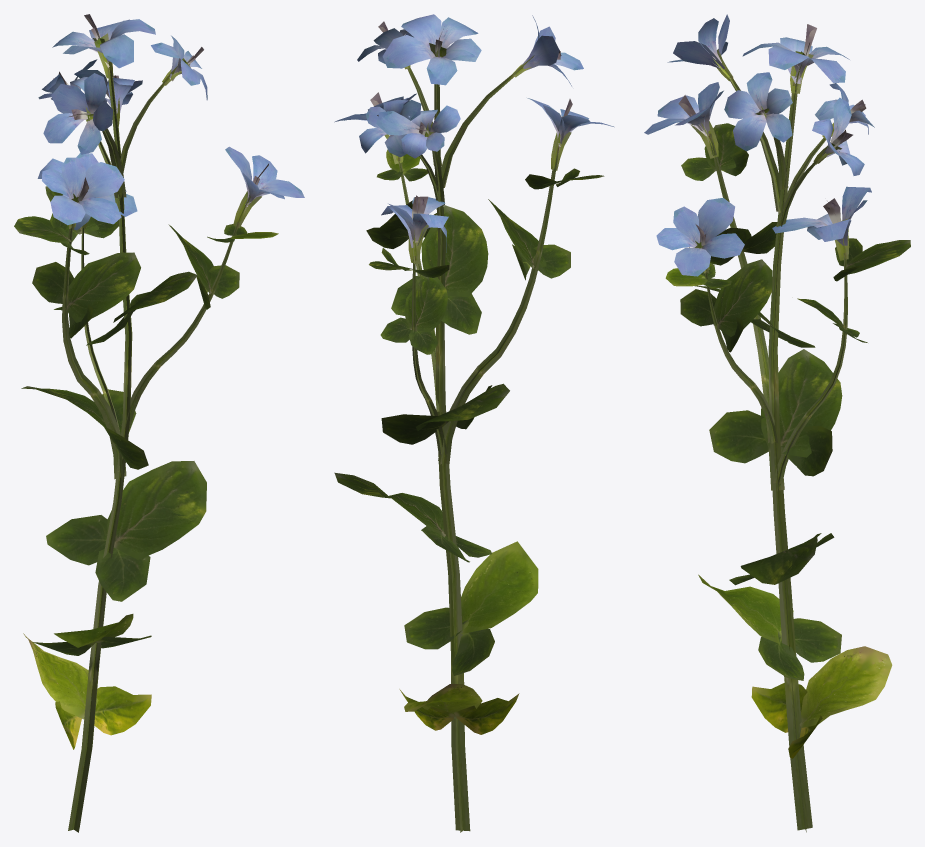
File: Periwinkle_baby_short_lightblue.glb
3 renders of one model, left to right at view 1: azimuth 30°, elevation 25°; view 2: azimuth 150°, elevation 25°; view 3: azimuth 270°, elevation 25°, orthographic.
Visible parts, largest first — view 1: _b868_Var1_LOD1; view 2: _b868_Var1_LOD1; view 3: _b868_Var1_LOD1.
Boxes of the visible parts, x1,y1,x2,y2 form: _b868_Var1_LOD1: (14,14,304,832); _b868_Var1_LOD1: (334,14,614,832); _b868_Var1_LOD1: (644,14,910,832).
Size of the model in its own units: 0.5832 by 1.66 by 0.4917.
Materials: 1 (1 with a texture image).
